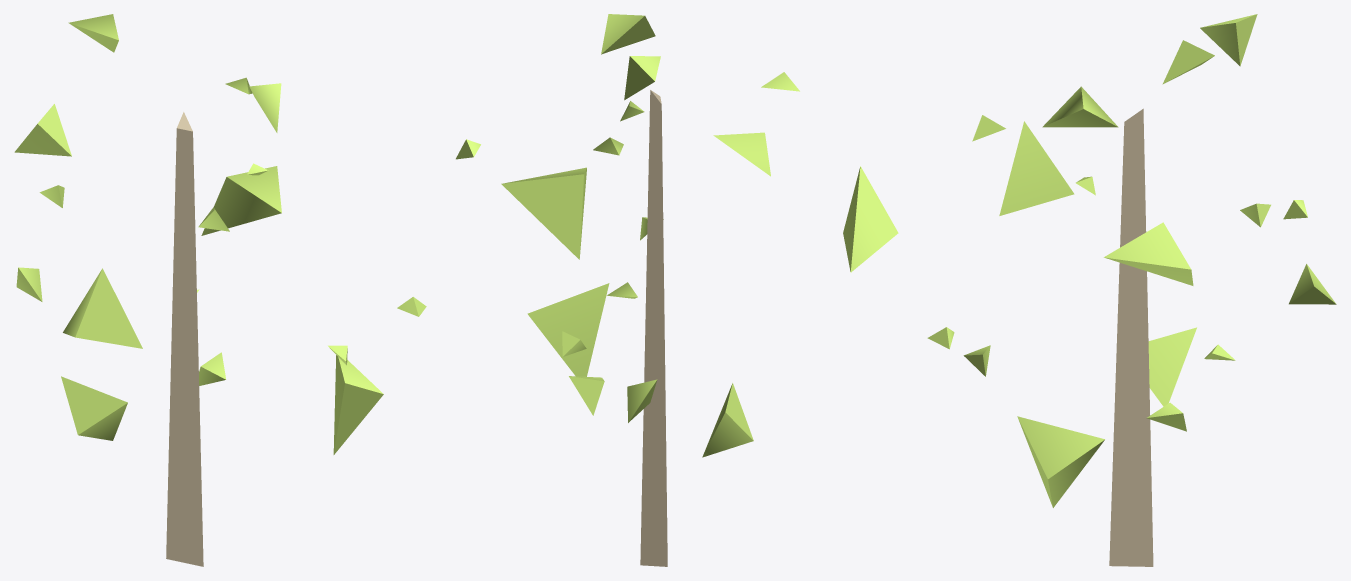
The picture shows the model from 3 angles, left to right: view 1: azimuth 30°, elevation 25°; view 2: azimuth 150°, elevation 25°; view 3: azimuth 270°, elevation 25°; orthographic projection. The views are drawn at different scales.
Parts seen in each view (by area): view 1: Box074, Pyramid198, Pyramid201, Pyramid206, Pyramid204, Pyramid192, Pyramid194, Pyramid193, Pyramid202, Pyramid207; view 2: Box074, Pyramid201, Pyramid206, Pyramid198, Pyramid204, Pyramid193, Pyramid192, Pyramid194, Pyramid202, Pyramid207; view 3: Box074, Pyramid206, Pyramid198, Pyramid201, Pyramid204, Pyramid193, Pyramid194, Pyramid202, Pyramid192, Pyramid207.
Part boxes in pixels (x1,y1,x2,y2): Box074: (166, 112, 203, 566); Pyramid198: (63, 268, 142, 348); Pyramid201: (201, 166, 281, 235); Pyramid206: (333, 355, 383, 454); Pyramid204: (61, 376, 127, 440); Pyramid192: (14, 104, 71, 156); Pyramid194: (68, 14, 118, 52); Pyramid193: (249, 83, 281, 132); Pyramid202: (16, 267, 42, 301); Pyramid207: (199, 352, 226, 385); Box074: (640, 90, 667, 566); Pyramid201: (501, 167, 586, 259); Pyramid206: (527, 283, 609, 376); Pyramid198: (843, 166, 898, 272); Pyramid204: (702, 383, 753, 457); Pyramid193: (601, 14, 655, 54); Pyramid192: (713, 132, 770, 176); Pyramid194: (624, 56, 660, 100); Pyramid202: (627, 379, 657, 422); Pyramid207: (569, 376, 604, 415); Box074: (1109, 108, 1153, 566); Pyramid206: (1017, 416, 1104, 507); Pyramid198: (999, 121, 1074, 215); Pyramid201: (1104, 222, 1193, 285); Pyramid204: (1148, 327, 1196, 406); Pyramid193: (1042, 86, 1118, 127); Pyramid194: (1200, 14, 1257, 66); Pyramid202: (1289, 264, 1336, 304); Pyramid192: (1162, 40, 1214, 84); Pyramid207: (1146, 402, 1186, 431).
Bounding box in the file's own units: 6.64 × 10.08 × 7.07.
